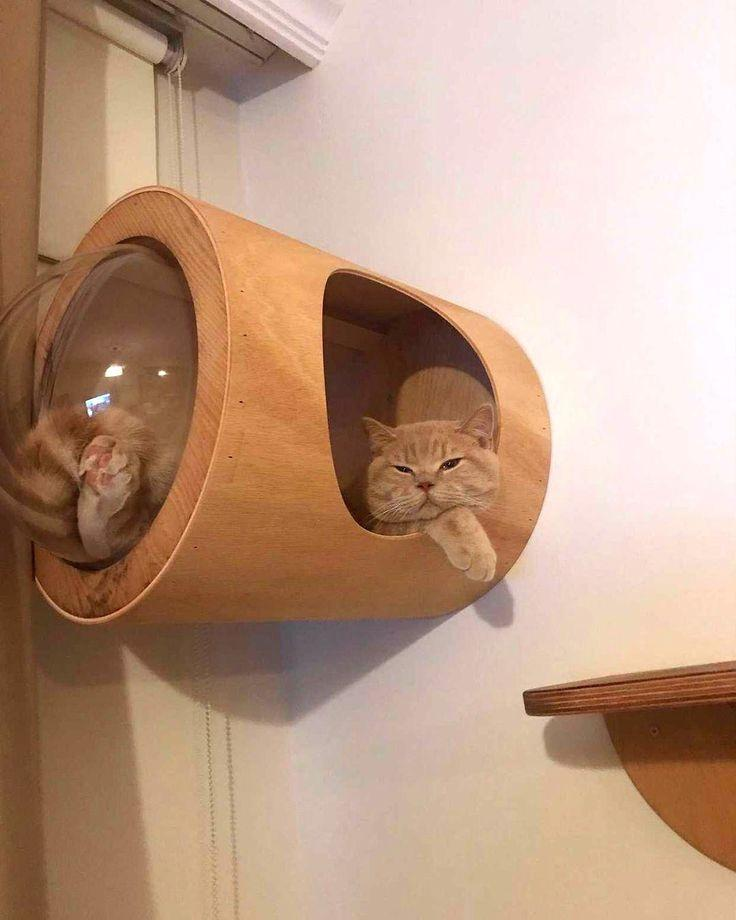kedo: (362, 404, 502, 585)
